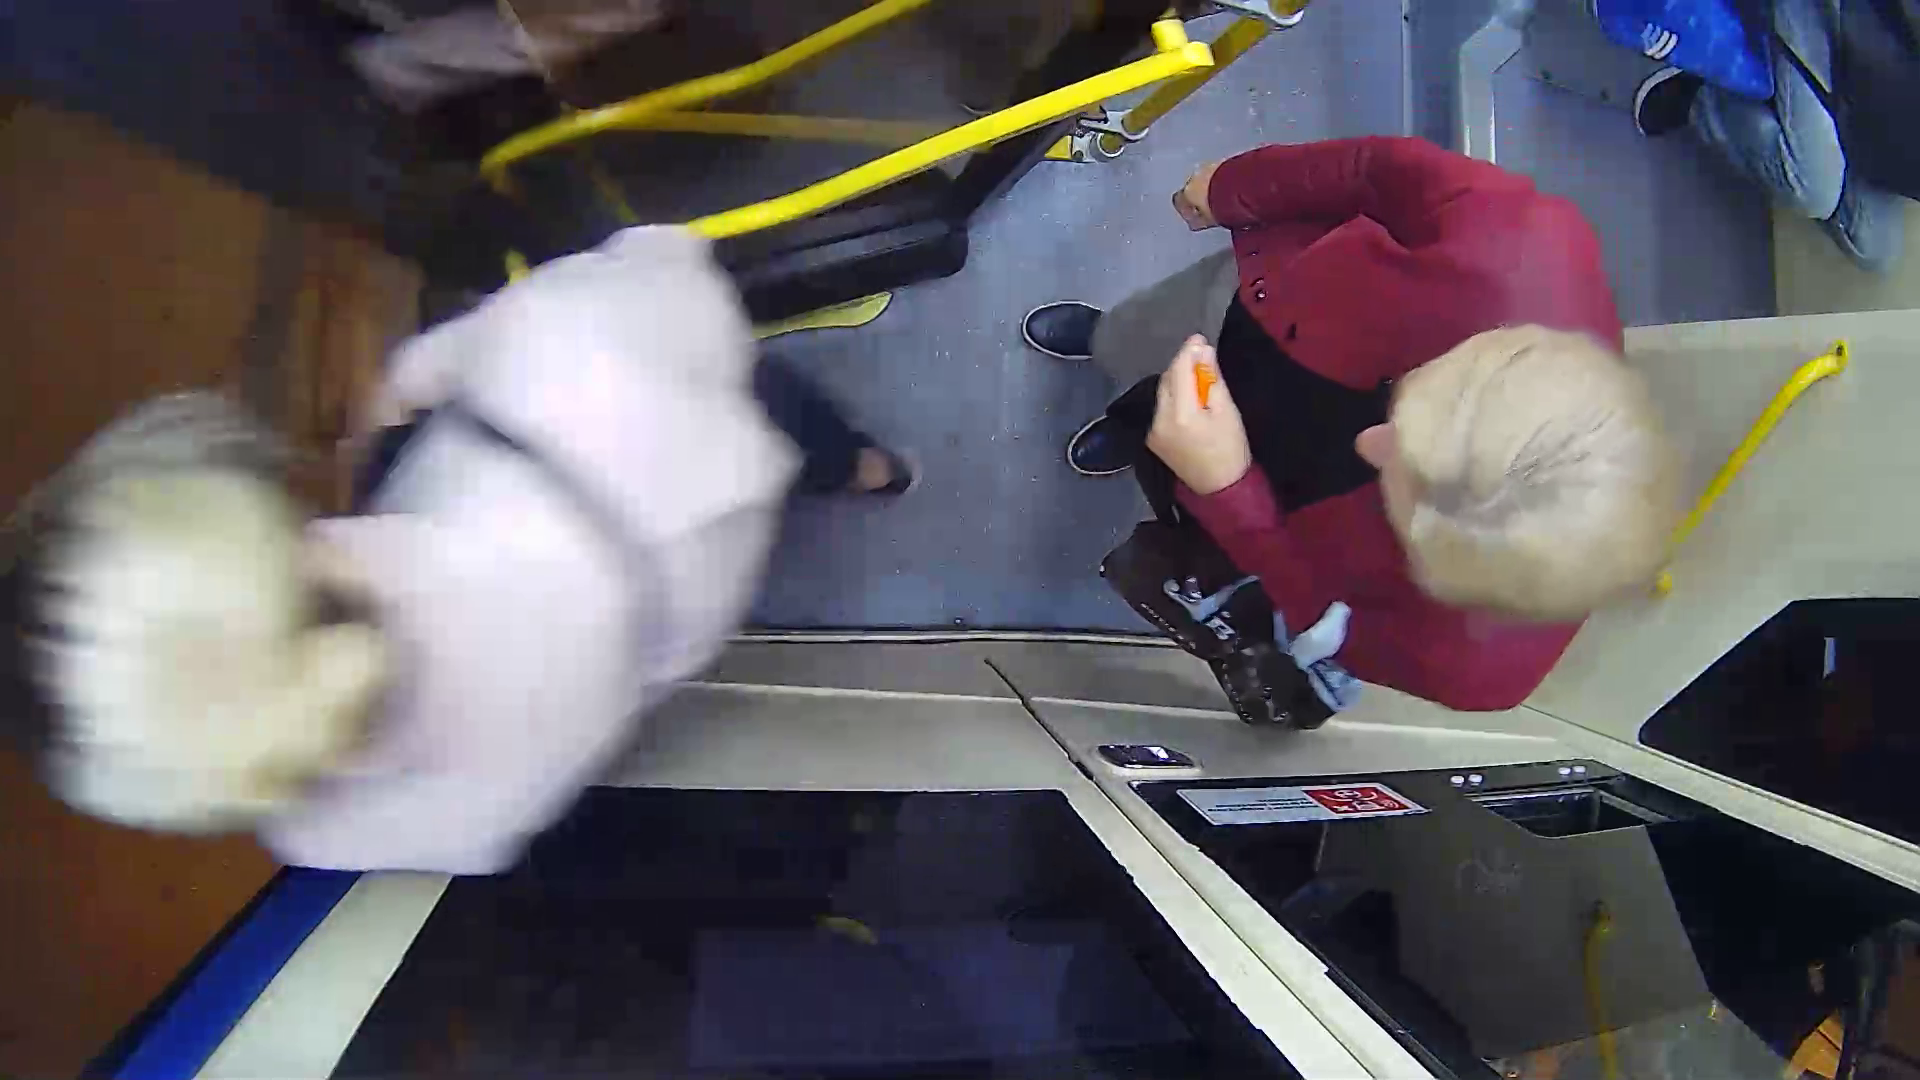person: (37, 245, 893, 836), (1037, 70, 1734, 765)
